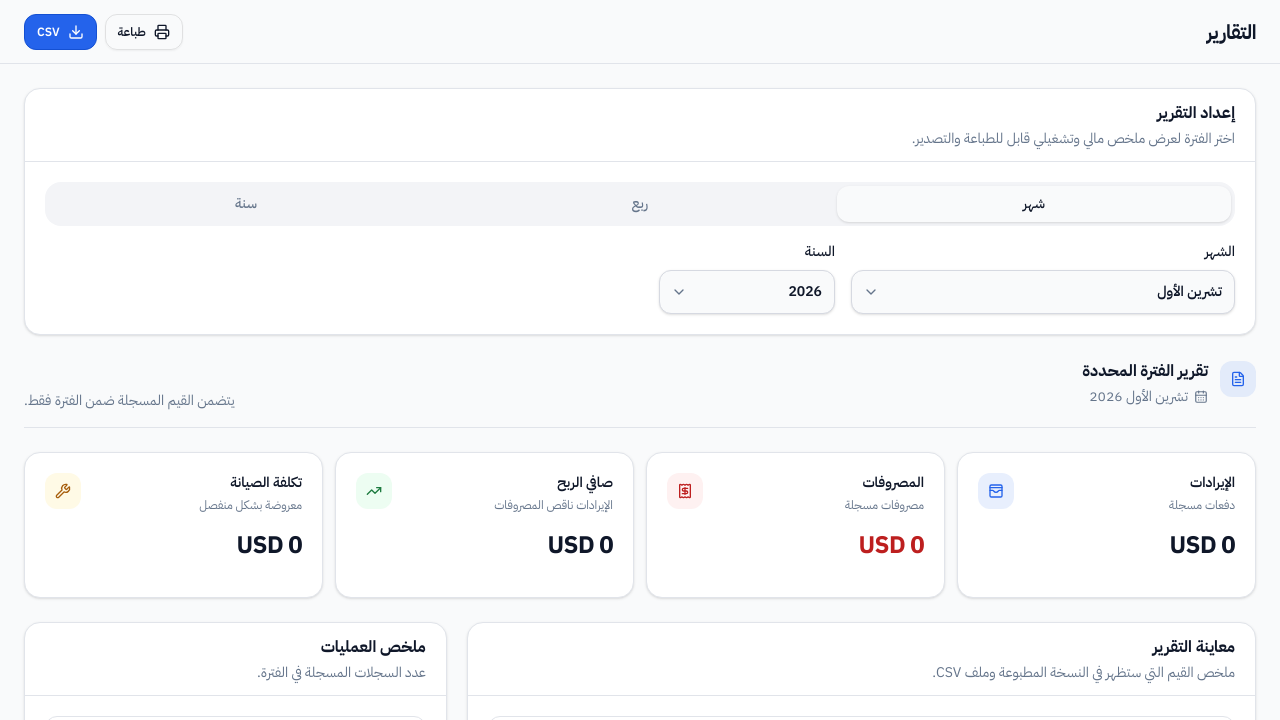
Scenario: ReportsPage › preserves the selected period when print preview is blocked
Click the button "طباعة" at (144, 32), box [104,14,183,50]
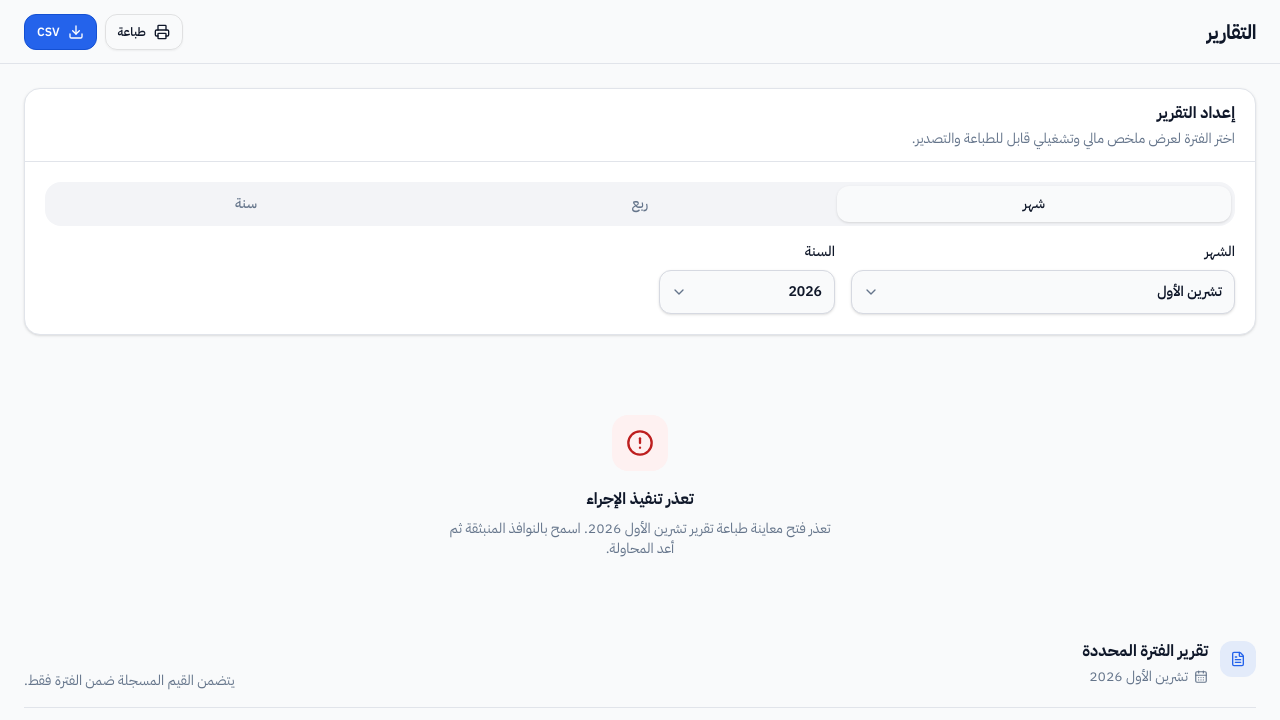
Expected: the heading "تقرير الفترة المحددة" is shown, [1083,639,1208,663]
Now the text "تعذر فتح معاينة طباعة تقرير" is shown, box [450,518,830,559]
